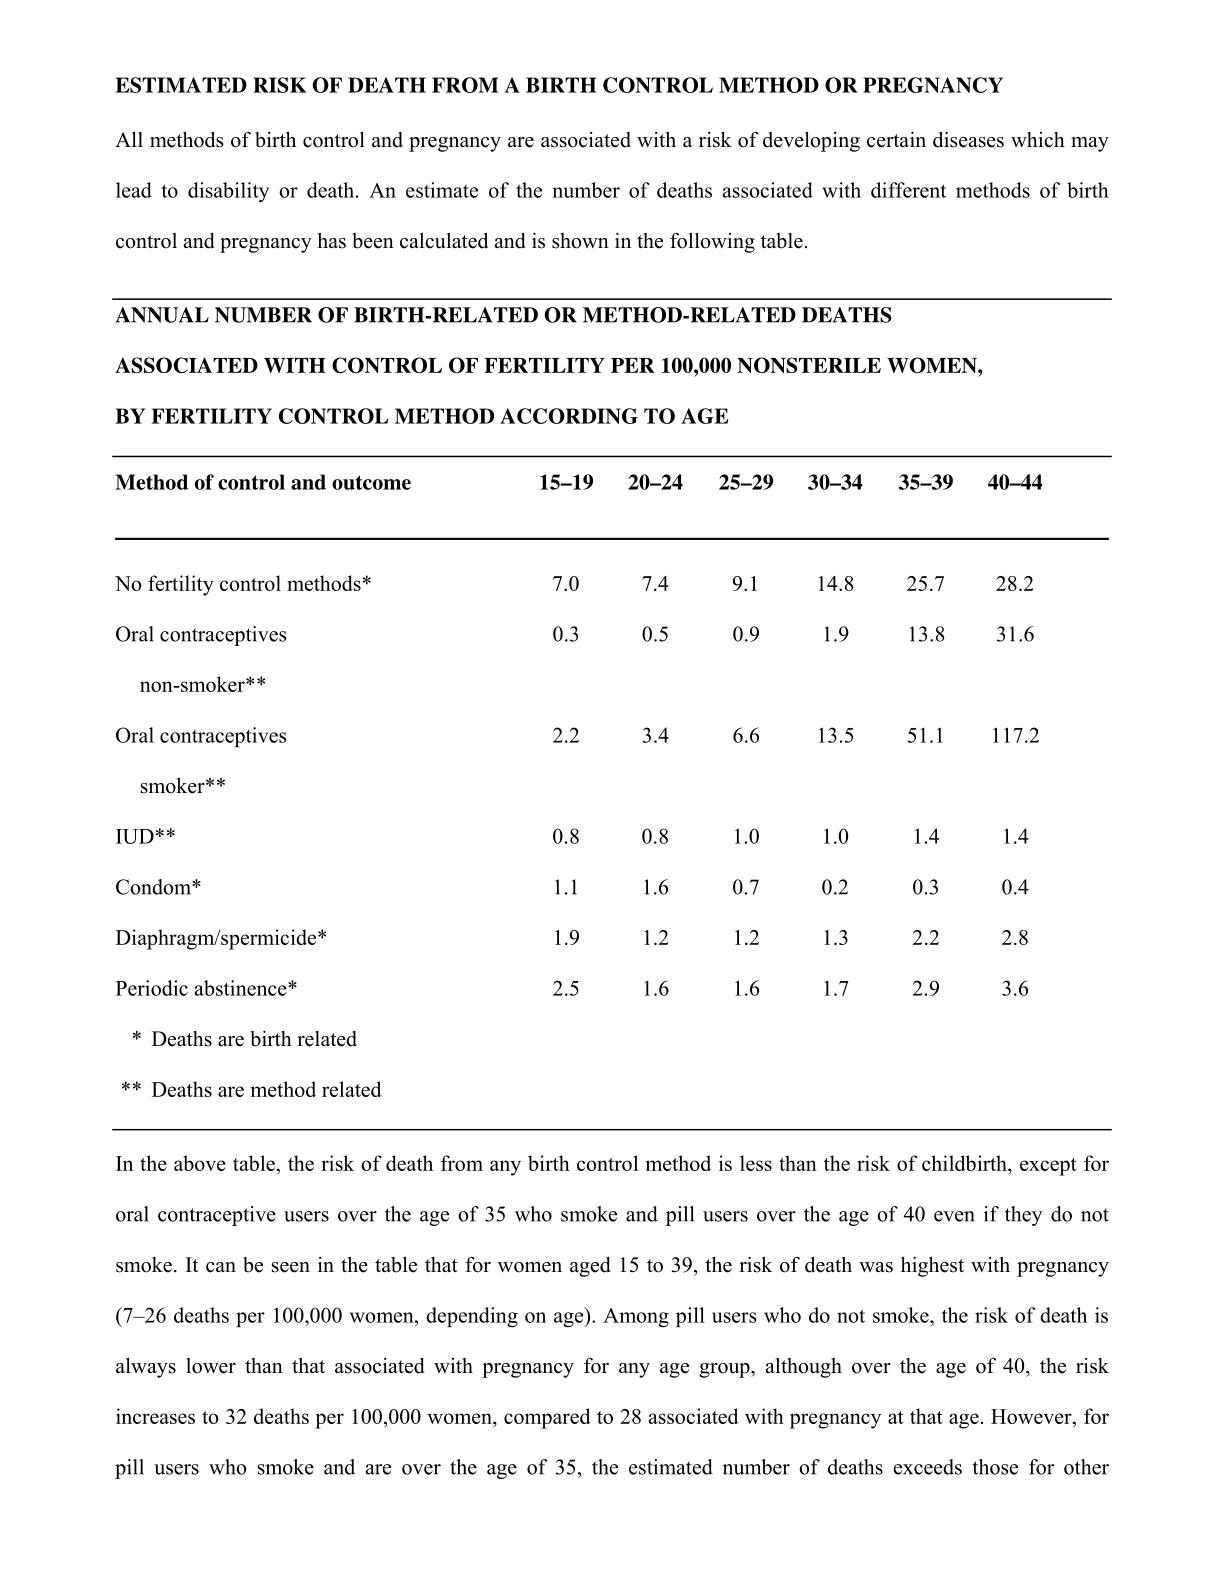partial_lined: (109, 453, 1110, 1134)
